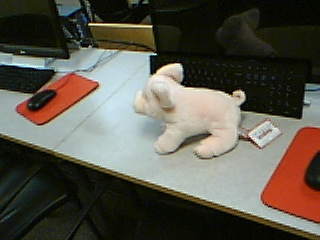piggy: (132, 61, 248, 161)
